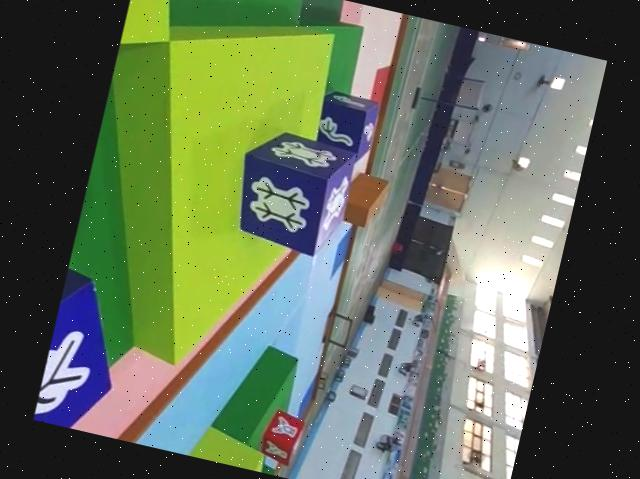R2 Real Blue: (33, 258, 140, 435), (225, 123, 361, 261), (309, 87, 382, 168)
